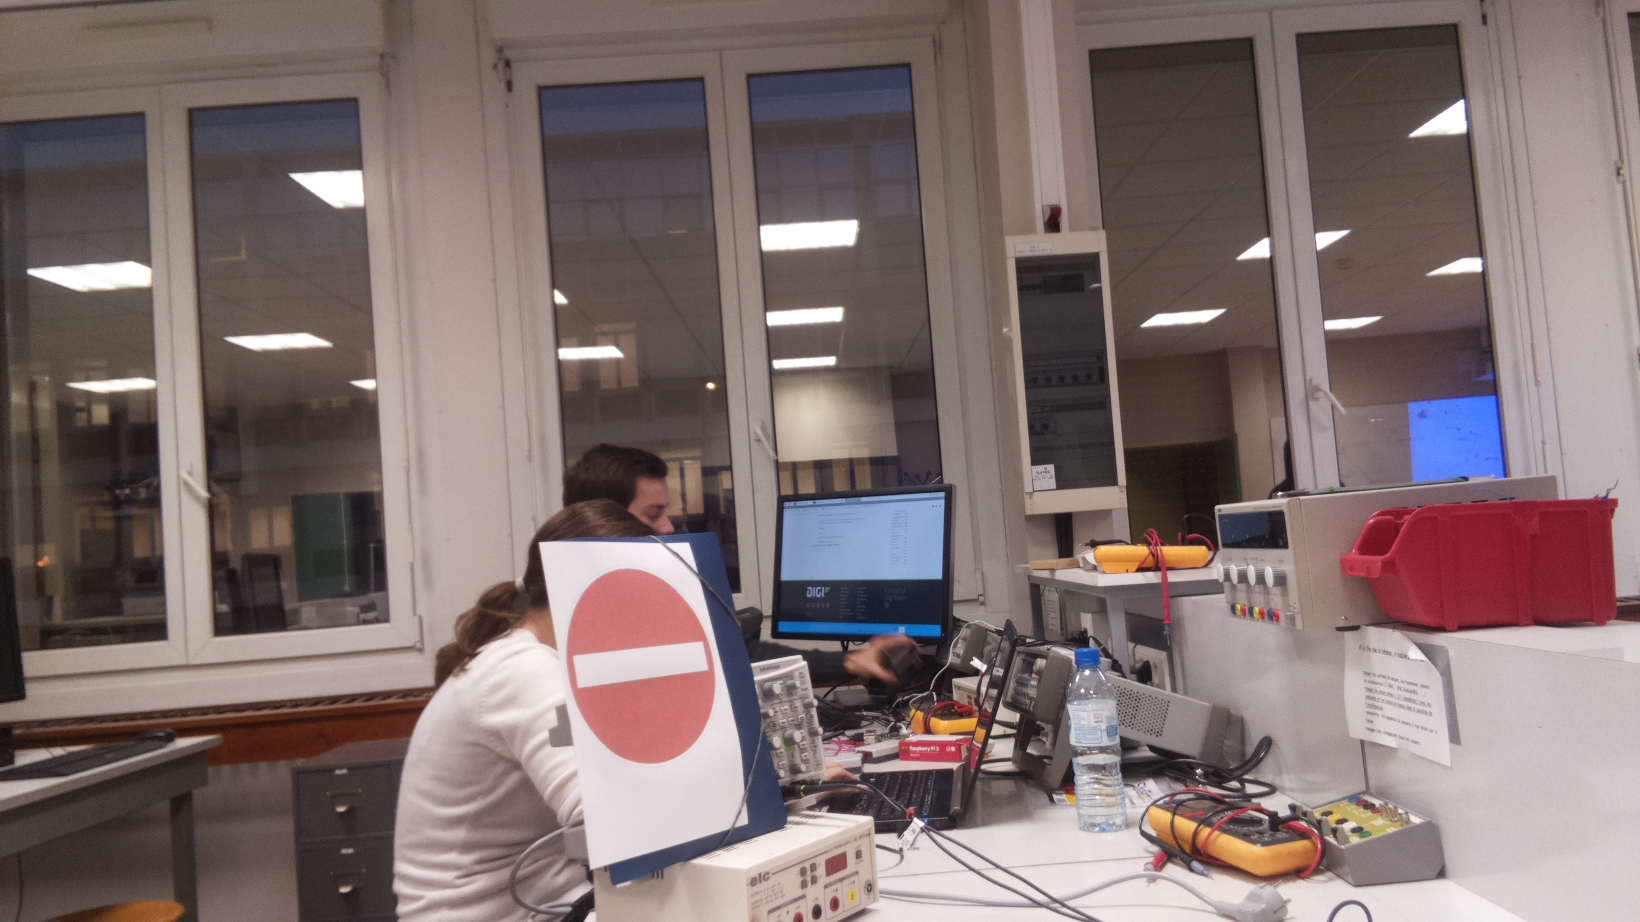prohibited: (565, 562, 717, 767)
